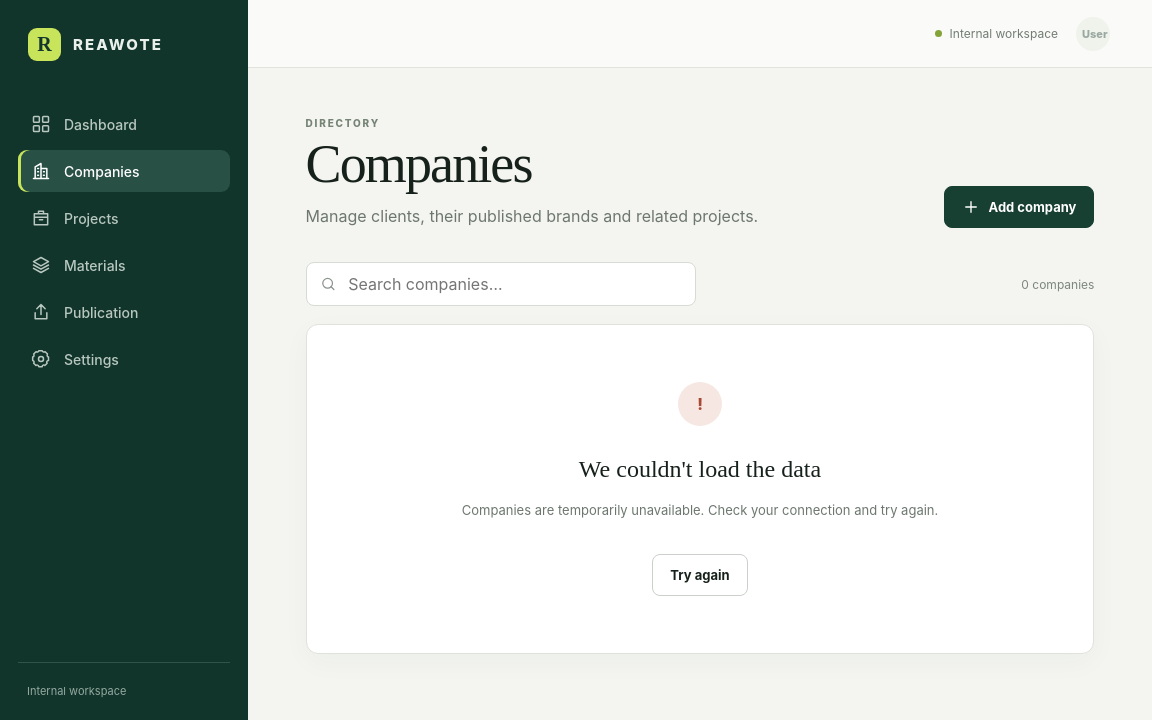
REAWOTE frontend › shows a readable error and supports retry
The image size is (1152, 720).
Check: the message shows "Companies are temporarily unavailable", box 462,502 -> 938,518
Click the button "Try again". click: (700, 575)
box: 652,554 -> 748,596
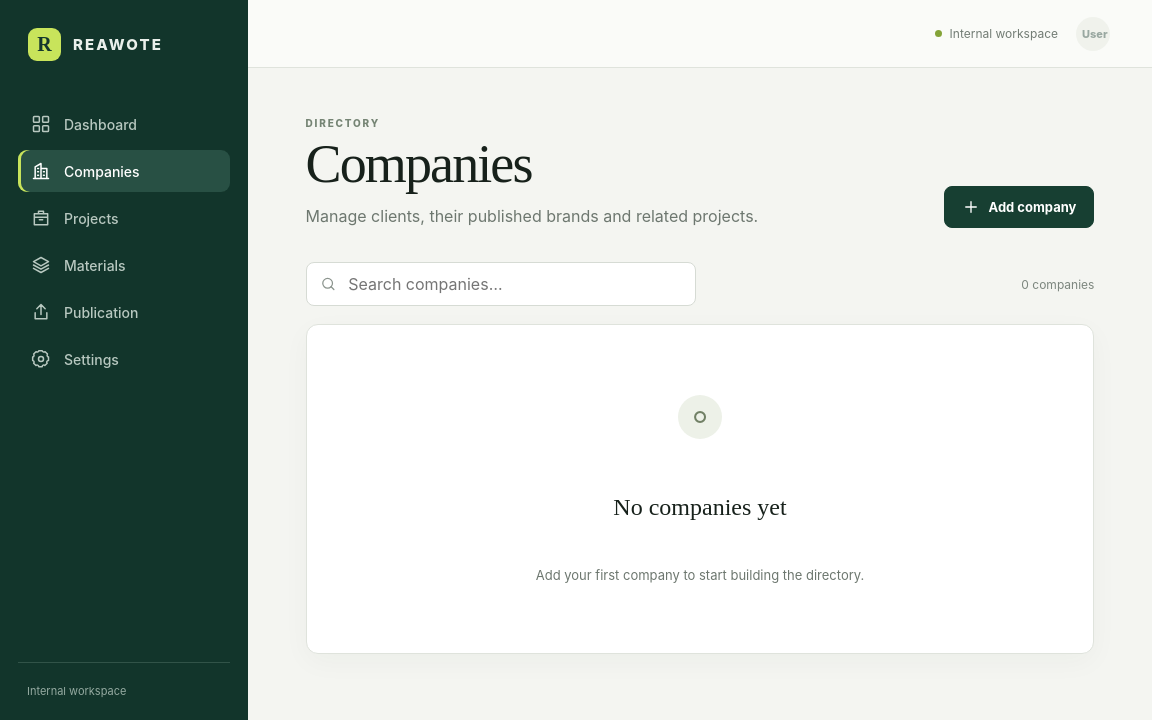
Check: the heading "No companies yet" is shown, box 613,494 -> 787,522
